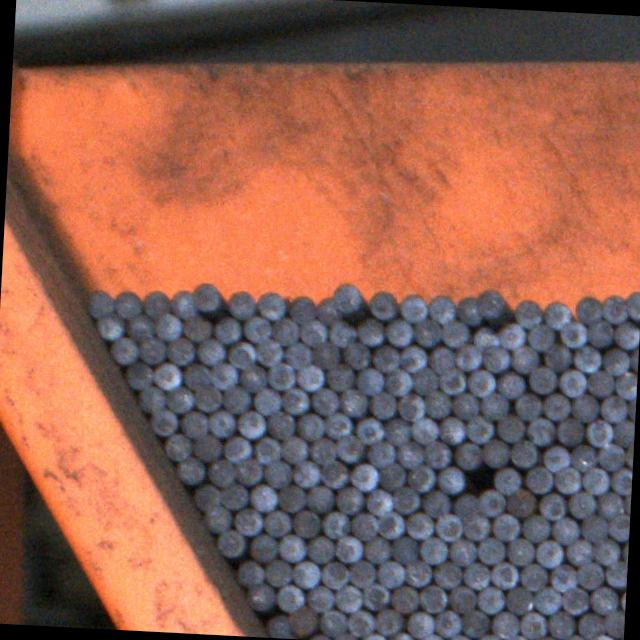tool: (256, 292, 288, 322), (333, 281, 363, 313), (507, 489, 538, 519), (570, 392, 600, 422), (522, 512, 552, 542), (543, 300, 573, 330), (526, 416, 556, 446), (170, 288, 198, 320), (227, 290, 256, 320), (428, 292, 457, 322), (399, 292, 428, 322), (598, 394, 627, 424), (369, 289, 398, 319), (514, 299, 543, 329), (350, 462, 380, 491), (480, 392, 509, 422), (575, 293, 604, 323), (288, 294, 317, 324), (588, 585, 618, 614), (482, 438, 511, 468), (143, 290, 172, 320), (497, 370, 526, 400), (193, 282, 222, 312), (288, 606, 317, 636), (556, 368, 586, 397), (338, 389, 367, 418), (384, 318, 413, 347), (493, 466, 522, 495), (324, 363, 353, 392), (434, 512, 462, 542), (267, 360, 295, 390), (436, 465, 466, 493), (454, 296, 482, 326), (356, 366, 384, 396), (249, 482, 277, 512), (376, 560, 406, 588), (412, 316, 440, 346), (601, 292, 629, 322), (115, 290, 143, 320), (534, 538, 562, 568), (572, 346, 602, 374), (558, 321, 588, 349), (504, 586, 532, 616), (421, 489, 451, 517), (466, 368, 496, 396), (249, 532, 277, 562), (310, 435, 340, 463), (494, 416, 524, 444), (540, 444, 570, 472), (314, 340, 342, 370), (336, 434, 364, 464), (554, 416, 582, 446), (478, 288, 506, 318), (357, 318, 385, 347), (217, 528, 246, 556), (236, 409, 264, 438), (197, 338, 226, 366), (419, 536, 448, 564), (177, 456, 206, 484), (180, 410, 209, 438), (193, 433, 221, 462), (492, 513, 520, 542), (347, 558, 375, 587), (266, 410, 294, 439), (384, 366, 412, 395), (438, 415, 466, 444), (404, 512, 433, 540), (506, 536, 534, 565), (424, 441, 452, 470), (585, 370, 614, 398), (96, 311, 125, 339), (433, 561, 462, 589), (584, 418, 612, 447), (371, 343, 399, 372), (466, 414, 494, 443), (446, 585, 475, 613), (542, 392, 571, 420), (511, 347, 540, 375), (438, 367, 466, 396), (398, 440, 426, 469), (353, 417, 382, 445), (602, 348, 630, 377), (542, 343, 571, 371), (410, 367, 438, 396), (262, 461, 292, 488), (391, 584, 418, 614), (378, 460, 405, 490), (222, 437, 250, 465), (407, 464, 435, 492), (291, 560, 319, 588), (291, 511, 319, 539), (88, 290, 116, 318), (320, 561, 348, 589), (292, 460, 320, 488), (248, 584, 276, 612), (281, 387, 309, 415), (109, 336, 137, 364), (278, 485, 306, 513), (526, 324, 554, 352), (419, 586, 447, 614), (153, 363, 181, 391), (208, 409, 236, 437), (278, 533, 306, 561), (205, 506, 233, 534), (532, 586, 560, 614), (272, 317, 300, 345), (392, 486, 420, 514), (210, 361, 238, 389), (333, 584, 361, 612), (165, 386, 193, 414), (561, 586, 589, 614), (520, 564, 548, 592), (276, 584, 304, 612), (192, 385, 220, 413), (300, 318, 328, 346), (306, 535, 334, 563), (295, 413, 323, 441), (462, 562, 490, 590), (368, 392, 396, 420), (297, 362, 325, 390), (461, 513, 489, 541), (262, 510, 290, 538), (492, 610, 520, 638), (285, 342, 313, 370), (476, 536, 504, 564), (222, 386, 250, 414), (236, 508, 264, 536), (166, 336, 194, 364), (477, 490, 505, 518), (510, 438, 538, 466), (520, 612, 548, 640), (528, 364, 556, 392), (538, 493, 566, 521), (580, 466, 608, 494), (320, 461, 348, 489), (376, 608, 404, 636), (335, 487, 363, 515), (406, 610, 434, 638), (307, 485, 335, 513), (403, 559, 431, 587), (254, 388, 282, 416), (126, 312, 154, 340), (475, 586, 503, 614), (398, 344, 426, 372), (238, 364, 266, 392), (318, 608, 346, 636), (596, 442, 624, 470), (364, 488, 392, 516), (349, 512, 377, 540), (579, 514, 607, 542), (526, 464, 554, 492), (548, 565, 576, 593), (124, 362, 152, 390), (192, 482, 220, 510), (568, 444, 596, 472), (305, 586, 333, 614), (391, 536, 419, 564), (552, 464, 580, 492), (446, 537, 474, 565), (513, 393, 541, 421), (593, 537, 621, 565), (256, 338, 284, 366), (254, 438, 282, 466), (237, 558, 265, 586), (499, 321, 527, 349), (368, 440, 396, 468), (396, 392, 424, 420), (596, 492, 624, 520), (566, 492, 594, 520), (546, 610, 574, 638), (453, 442, 481, 470), (322, 412, 350, 440), (362, 584, 390, 612), (428, 346, 456, 374), (587, 319, 614, 348), (242, 316, 272, 342), (281, 437, 308, 465), (613, 320, 640, 348), (163, 433, 190, 461), (491, 562, 518, 590), (207, 458, 234, 486), (442, 320, 469, 348), (138, 385, 166, 412), (138, 336, 165, 364), (154, 313, 182, 340), (335, 534, 362, 562), (263, 558, 290, 586), (462, 608, 489, 636), (385, 417, 412, 445), (312, 389, 339, 417), (551, 516, 578, 544), (434, 608, 461, 636), (363, 536, 390, 564), (235, 457, 262, 485), (378, 512, 405, 540), (481, 344, 508, 372), (575, 612, 602, 640), (454, 342, 481, 370), (228, 340, 255, 368), (181, 362, 209, 389), (411, 416, 438, 444), (327, 320, 355, 347), (342, 341, 369, 369), (426, 389, 452, 418), (181, 314, 210, 340), (316, 296, 342, 325), (451, 392, 478, 419), (150, 408, 178, 434), (576, 562, 602, 590), (322, 512, 348, 540), (348, 608, 374, 636), (214, 318, 242, 344), (220, 482, 247, 508), (566, 538, 593, 564), (604, 560, 628, 588), (454, 494, 479, 520), (612, 420, 635, 448), (616, 372, 638, 401), (264, 614, 290, 638), (472, 328, 498, 352), (610, 466, 632, 494), (608, 512, 630, 540), (604, 608, 625, 637), (626, 288, 640, 319), (629, 344, 639, 372), (624, 442, 634, 468), (389, 631, 417, 640), (627, 396, 636, 424), (333, 632, 359, 640), (623, 492, 631, 518), (419, 633, 446, 640), (361, 633, 388, 640), (590, 634, 619, 640), (620, 585, 626, 614), (561, 634, 589, 640), (307, 634, 335, 640), (477, 634, 504, 640), (446, 634, 473, 640), (504, 635, 532, 640), (617, 635, 624, 640)
